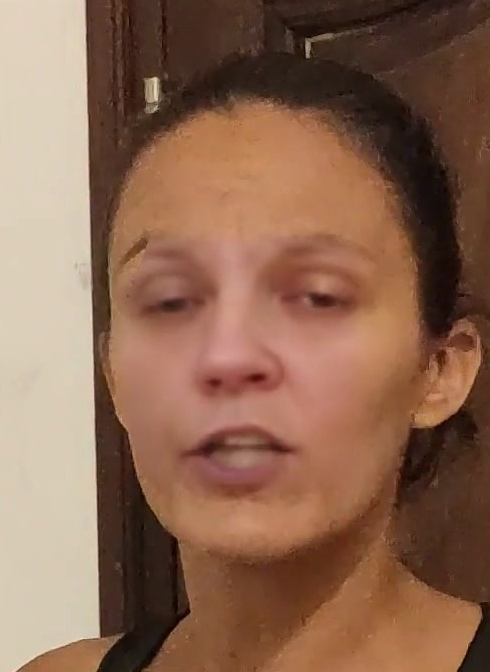eb_f: (109, 223, 388, 326)
